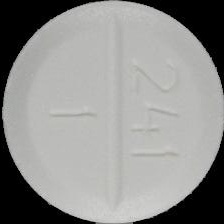0591-0241: (0, 0, 224, 224)
